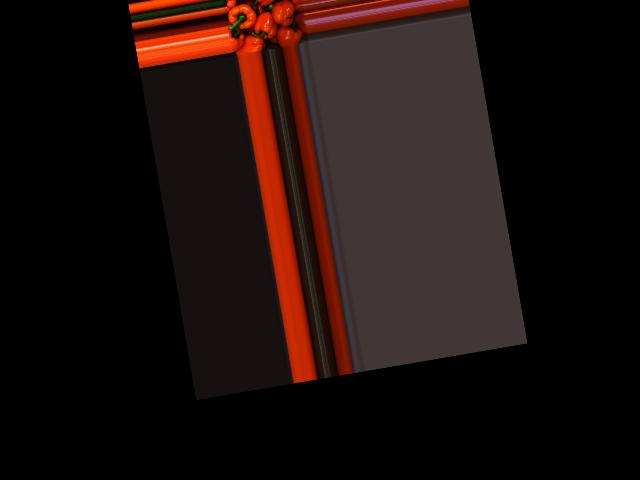bell_pepper: (286, 6, 308, 38)
